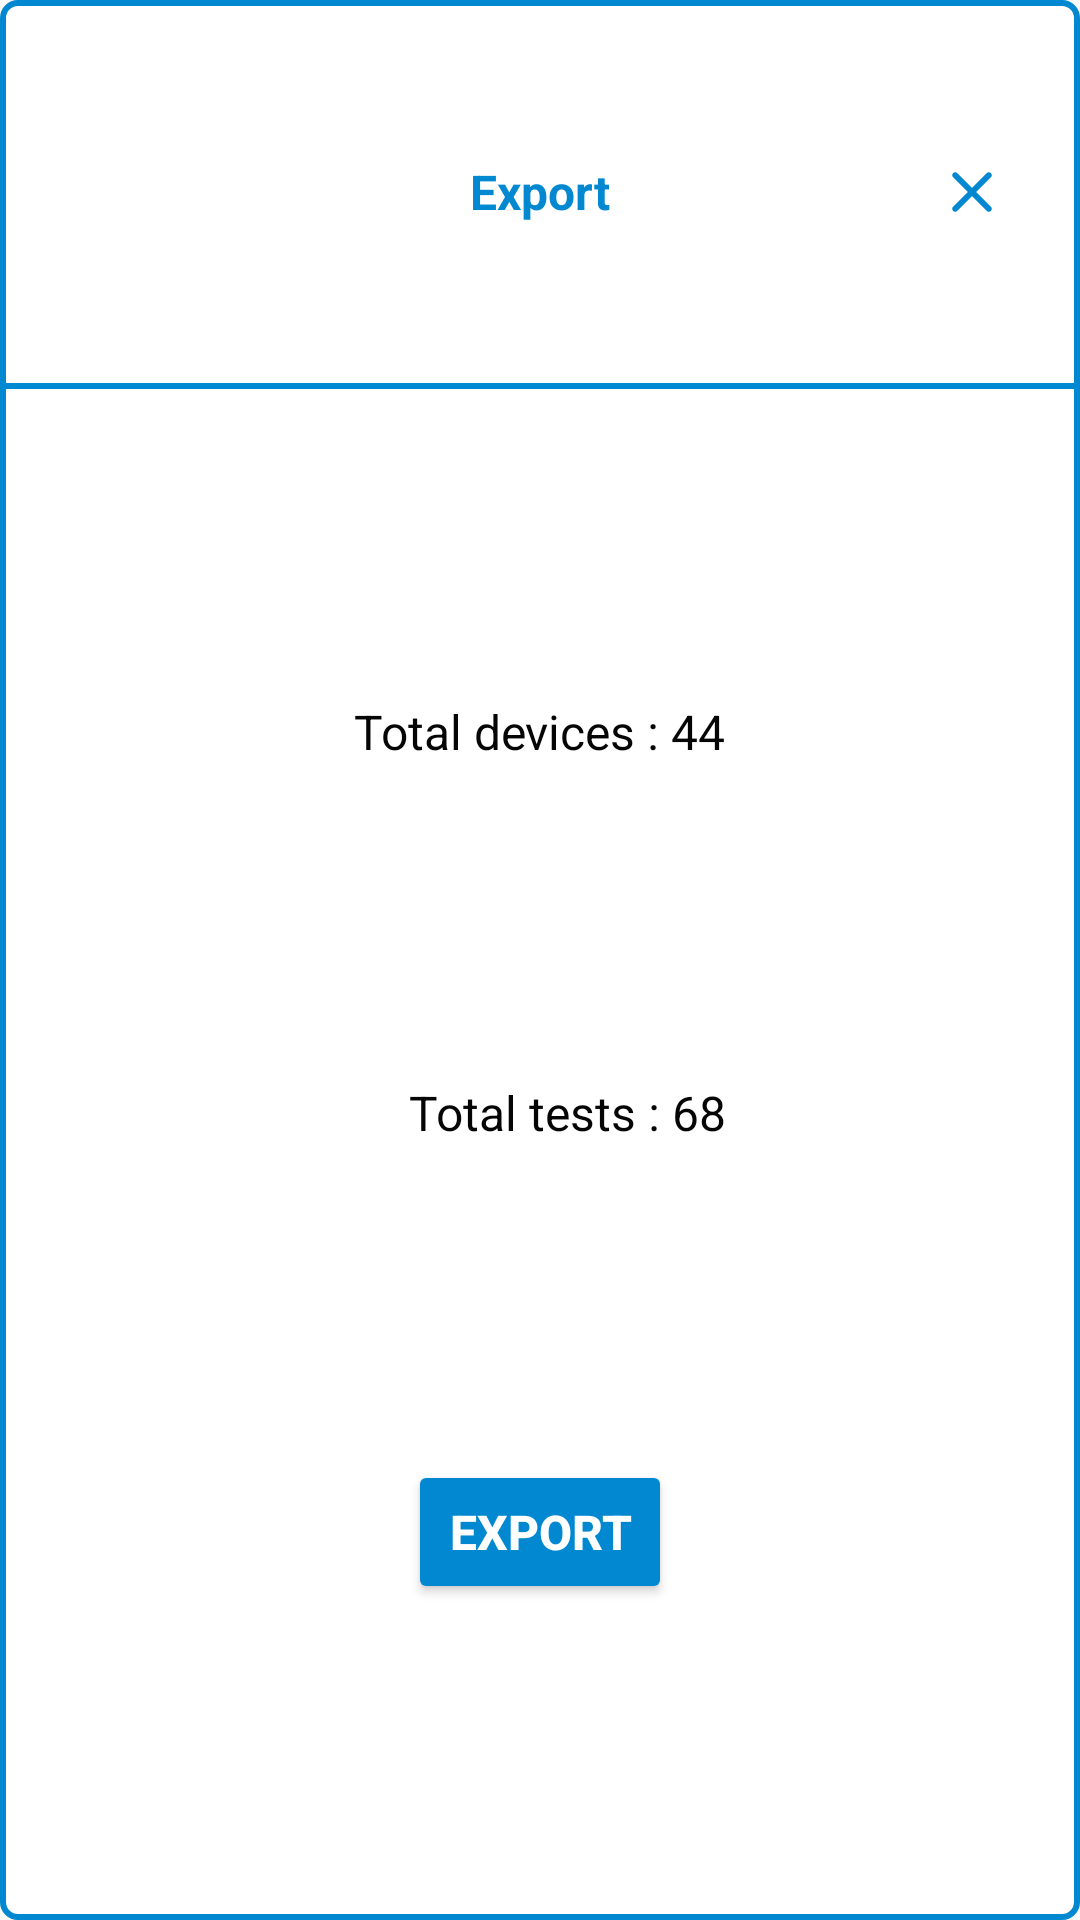

Where icons sit on this 1080*1920 app screen, as (x1, y1, x2, y2):
clear: (952, 172, 992, 212)
